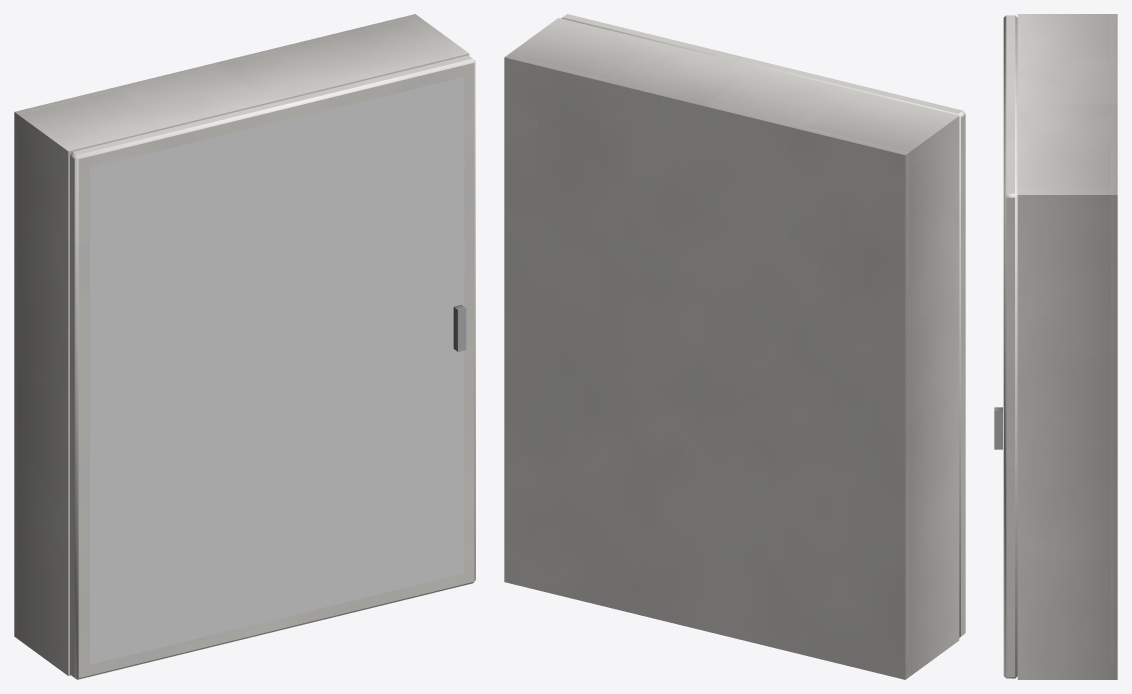
Rendered from medicine_cabinet.glb.
3 renders of one model, left to right at view 1: azimuth 30°, elevation 25°; view 2: azimuth 150°, elevation 25°; view 3: azimuth 270°, elevation 25°, orthographic. The views are drawn at different scales.
Parts seen in each view (by area): view 1: pivot_leaf, body; view 2: body, pivot_leaf; view 3: body, pivot_leaf.
Boxes of the visible parts, box(x1,y1,x2,y2) form: pivot_leaf: box(70, 55, 475, 679); body: box(14, 14, 469, 675); body: box(504, 18, 959, 679); pivot_leaf: box(561, 14, 965, 637); body: box(1017, 14, 1117, 679); pivot_leaf: box(994, 15, 1017, 678).
Size of the model in its own units: 0.6 by 0.75 by 0.173.
Materials: 11 (5 with a texture image).
